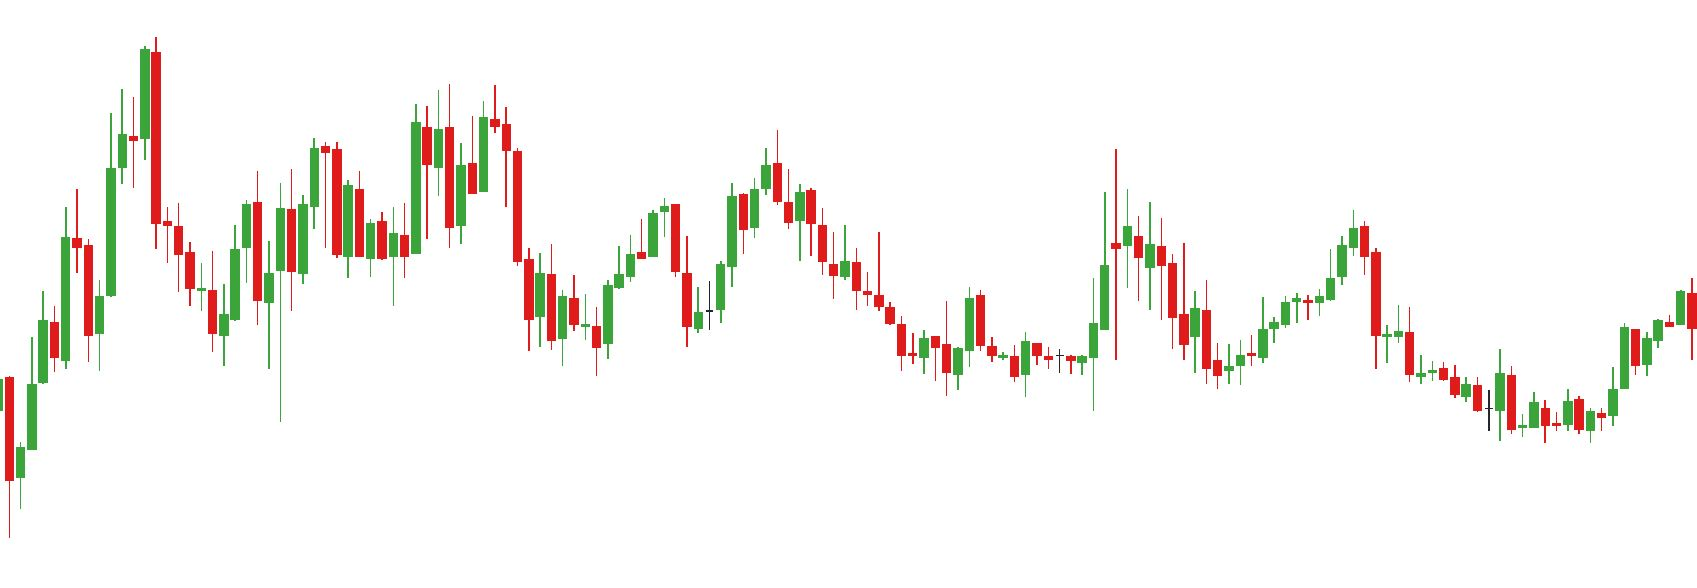sell: (305, 105, 433, 245)
